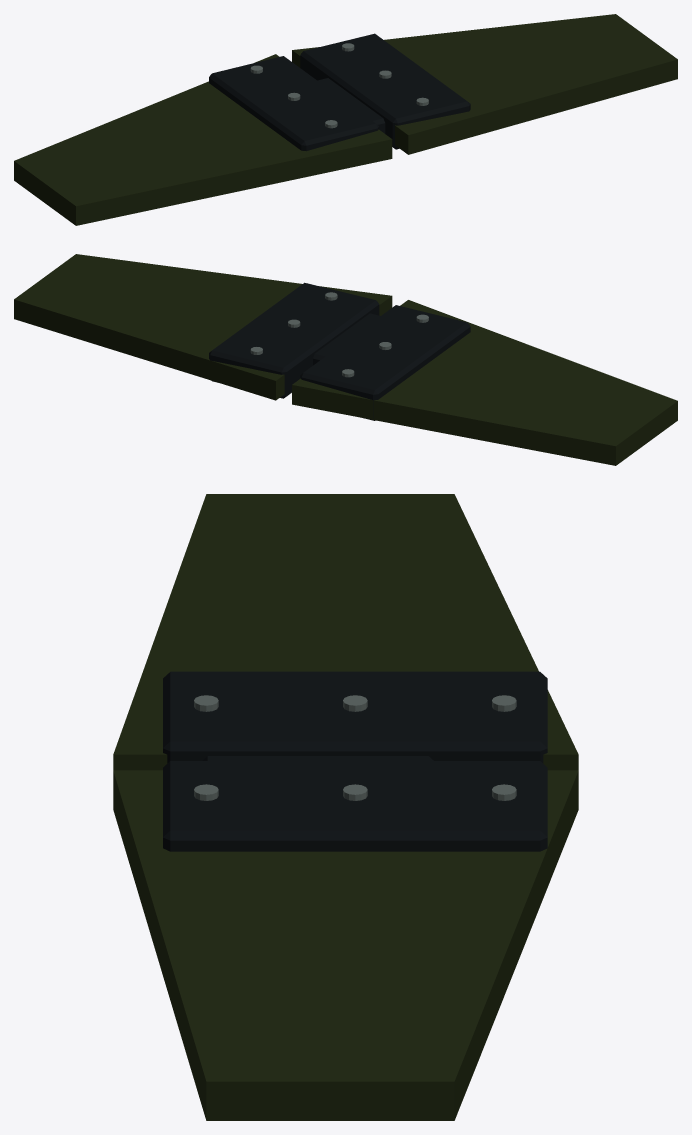
File: StubWing.obj
3 renders of one model, top to bottom at view 1: azimuth 30°, elevation 25°; view 2: azimuth 150°, elevation 25°; view 3: azimuth 270°, elevation 25°, orthographic. The views are drawn at different scales.
Parts seen in each view (by area): view 1: Left_stub_wing, Right_stub_wing, Wing_root_doubler.001, Wing_root_doubler, Mount_lug; view 2: Left_stub_wing, Right_stub_wing, Wing_root_doubler.001, Wing_root_doubler, Mount_lug; view 3: Right_stub_wing, Left_stub_wing, Wing_root_doubler.001, Wing_root_doubler, Mount_lug.
Part boxes in pixels (x1=…): Left_stub_wing: x1=14, y1=54, x2=392, y2=225; Right_stub_wing: x1=292, y1=14, x2=677, y2=154; Wing_root_doubler.001: x1=300, y1=33, x2=470, y2=149; Wing_root_doubler: x1=209, y1=56, x2=379, y2=151; Mount_lug: x1=317, y1=78, x2=385, y2=133; Left_stub_wing: x1=292, y1=300, x2=677, y2=465; Right_stub_wing: x1=14, y1=254, x2=392, y2=400; Wing_root_doubler.001: x1=209, y1=282, x2=379, y2=398; Wing_root_doubler: x1=300, y1=305, x2=470, y2=420; Mount_lug: x1=313, y1=313, x2=380, y2=365; Right_stub_wing: x1=113, y1=770, x2=578, y2=1120; Left_stub_wing: x1=113, y1=494, x2=578, y2=770; Wing_root_doubler.001: x1=163, y1=761, x2=547, y2=851; Wing_root_doubler: x1=163, y1=671, x2=547, y2=763; Mount_lug: x1=202, y1=756, x2=433, y2=760.
Size of the model in its own units: 2.24 by 0.151 by 0.75.
